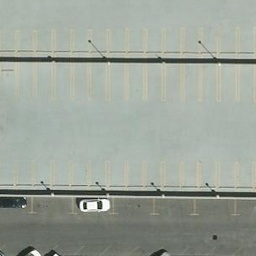car: (79, 194, 111, 215), (1, 193, 27, 209)
